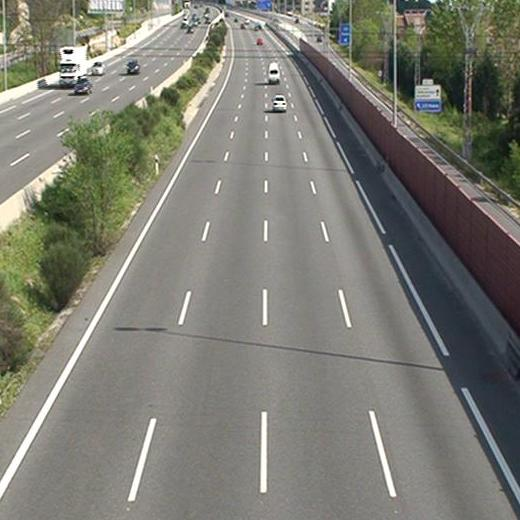car: (272, 93, 287, 112)
van: (267, 63, 281, 84)
